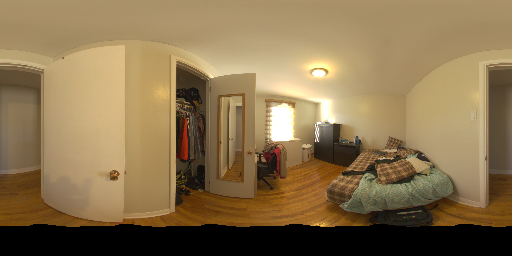light: (305, 60, 335, 80)
non_light: (22, 13, 36, 23)
